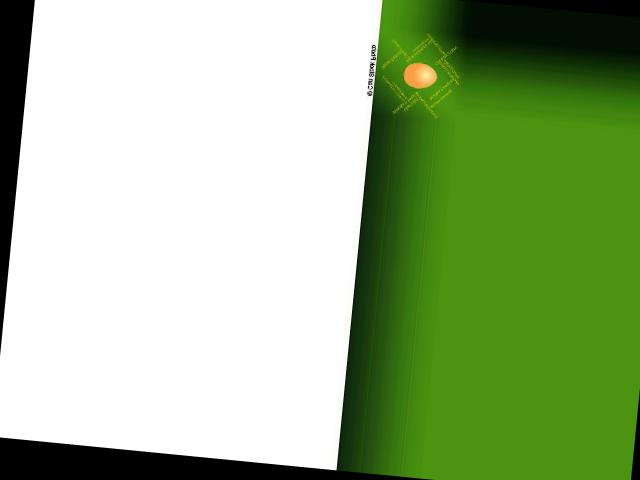egg: (402, 61, 438, 89)
